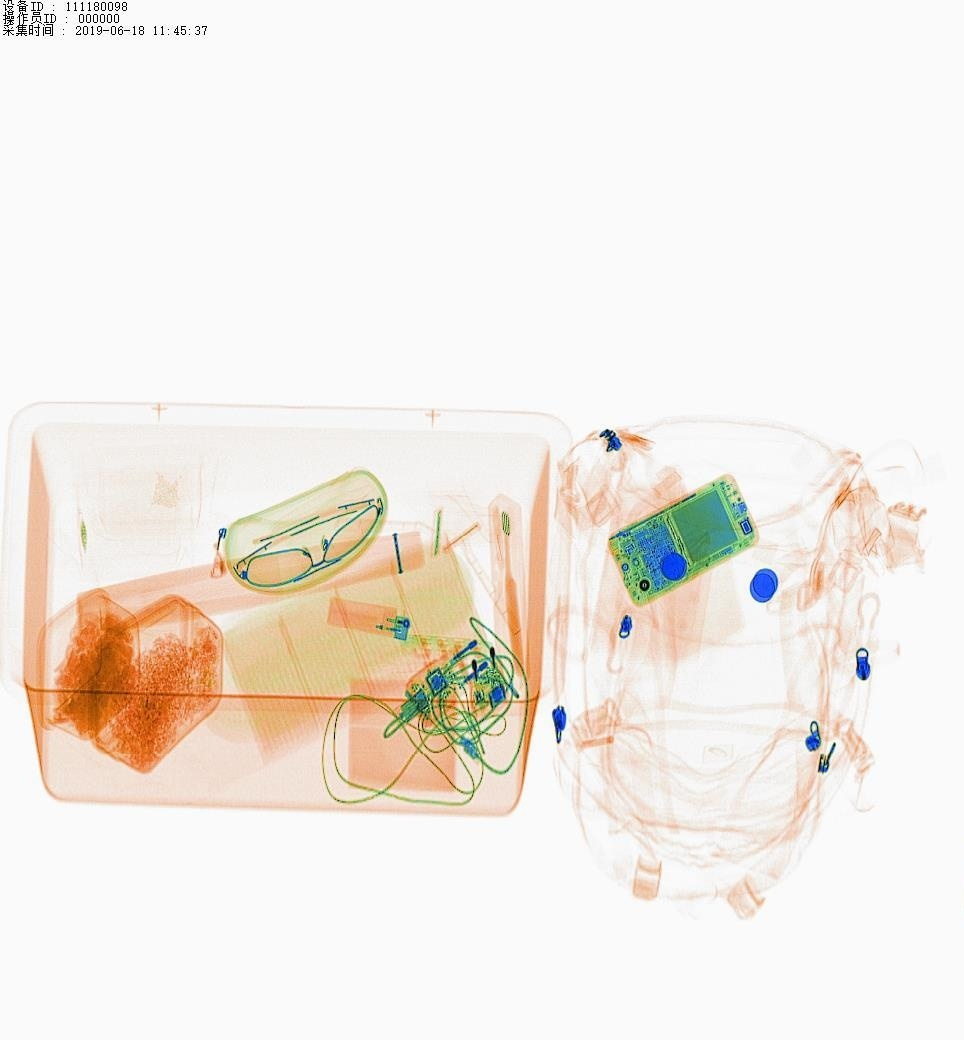NonmetallicFire: (323, 588, 425, 654)
